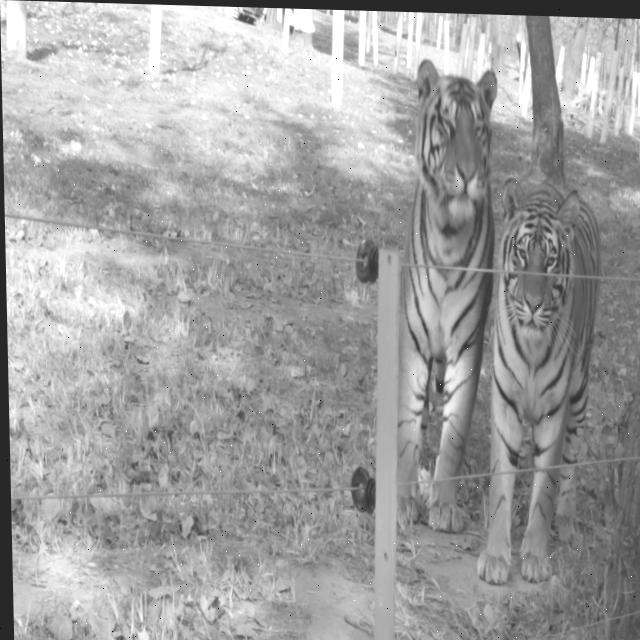Tiger: (467, 173, 608, 589), (385, 56, 507, 535)
